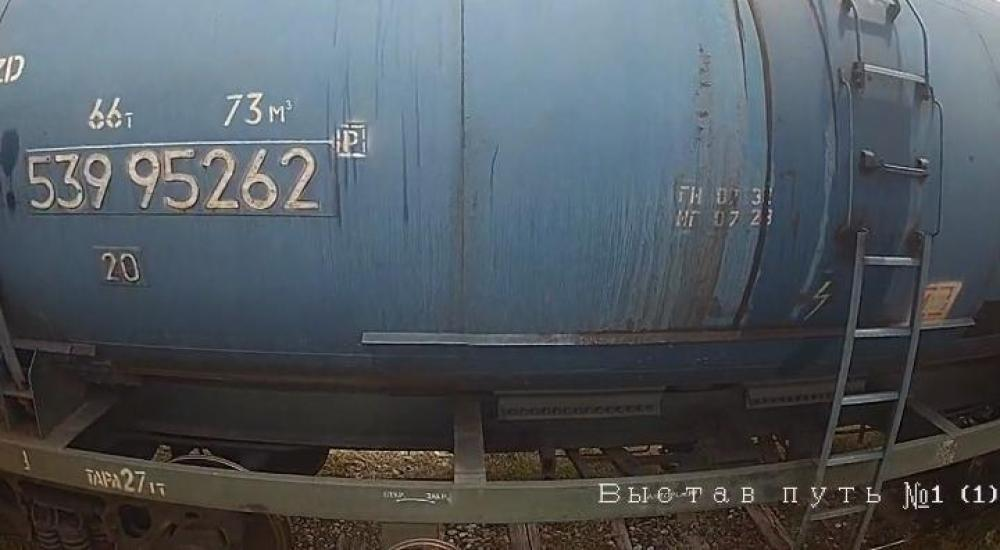Wagon-number: (28, 142, 323, 216)
